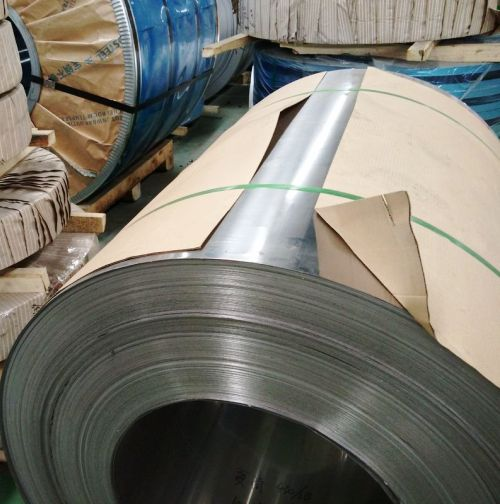steel-coil: (50, 89, 497, 497), (130, 87, 497, 432), (5, 264, 496, 498)
